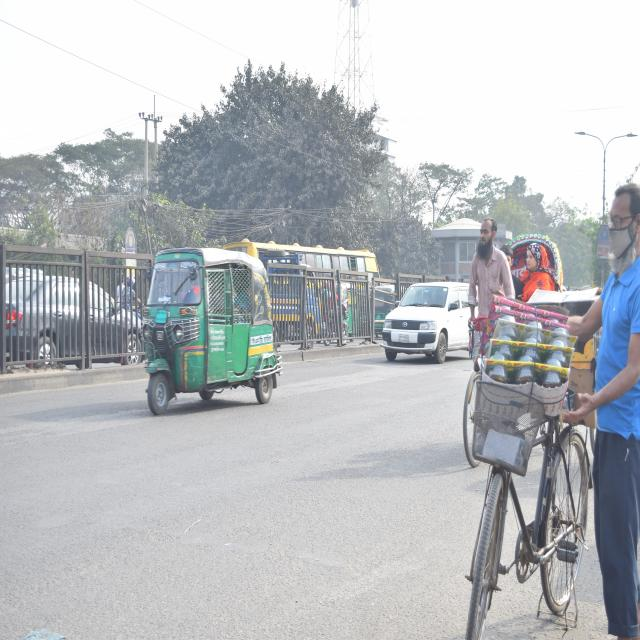car: (376, 277, 476, 362)
